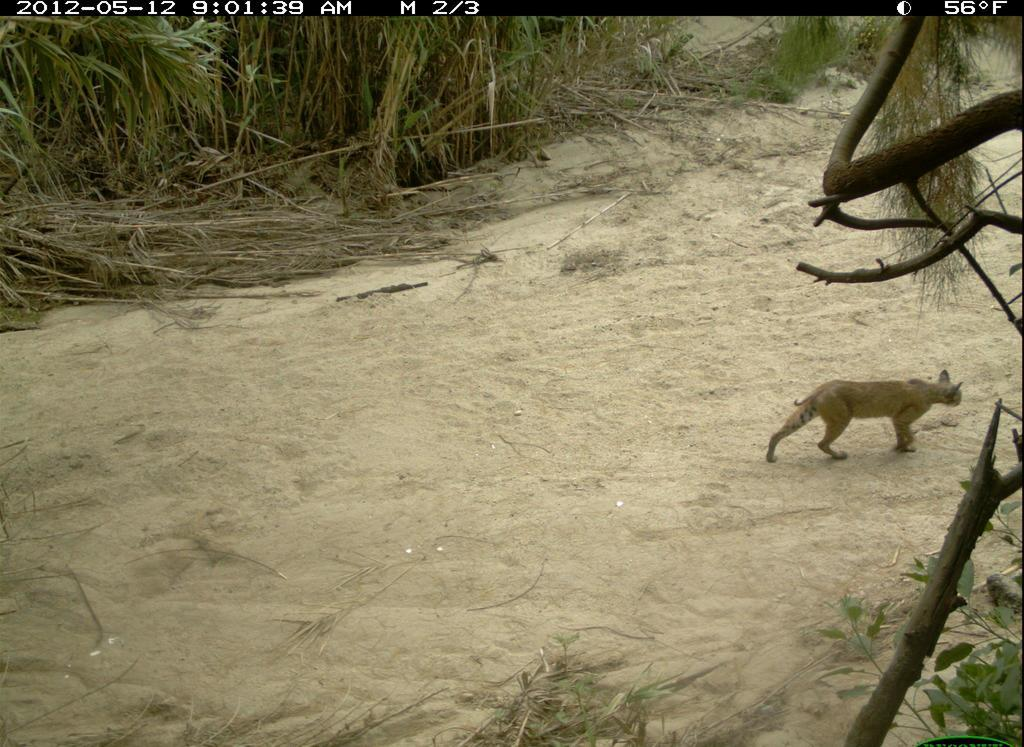bobcat: (762, 367, 971, 472)
